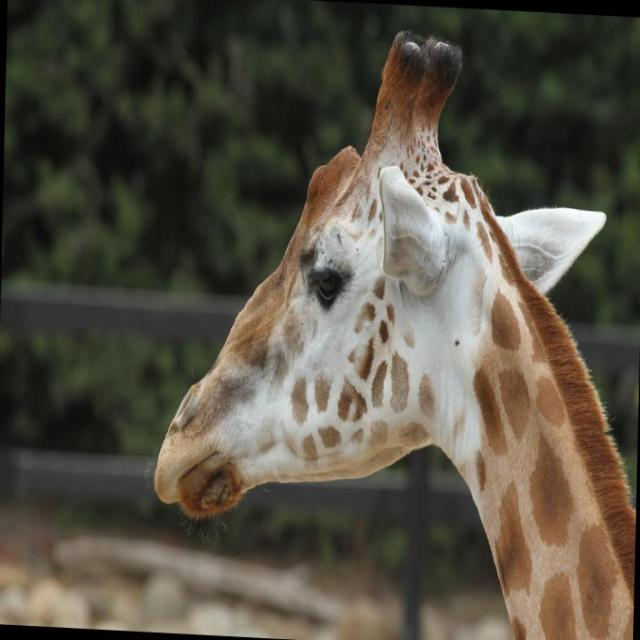Giraffe: (140, 19, 640, 640)
